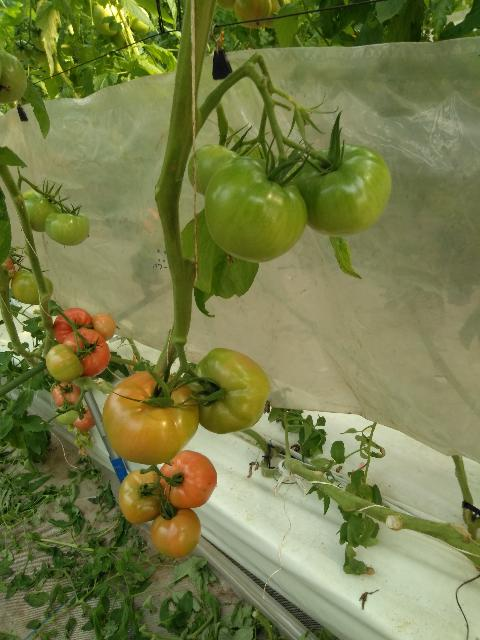b_fully_ripened: (62, 328, 111, 378), (53, 307, 93, 344)
b_green: (203, 155, 308, 263), (291, 143, 392, 237), (188, 347, 271, 434), (188, 144, 241, 195), (23, 189, 69, 232), (45, 212, 90, 246), (0, 50, 27, 103), (11, 270, 53, 304), (46, 344, 83, 382), (55, 405, 79, 425)
b_half_ripened: (102, 370, 199, 465), (159, 450, 218, 508), (118, 469, 167, 523), (151, 507, 201, 558), (234, 0, 272, 29), (92, 313, 117, 341), (53, 382, 80, 407), (73, 405, 96, 430)
